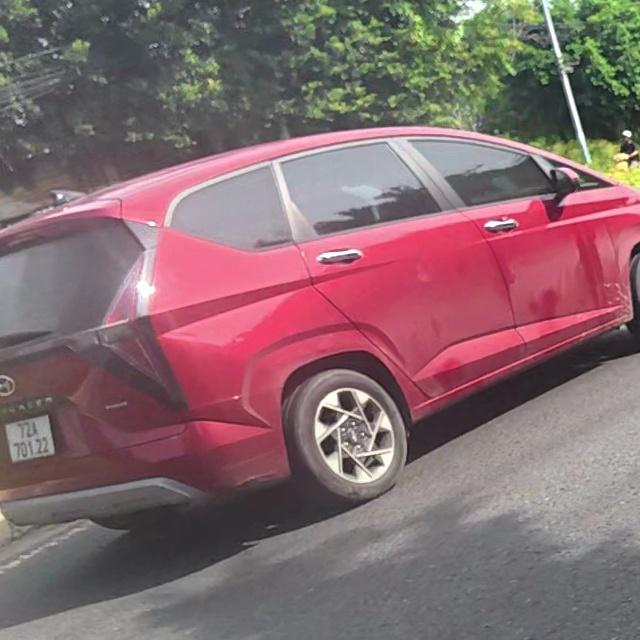license-plate: (5, 414, 57, 463)
